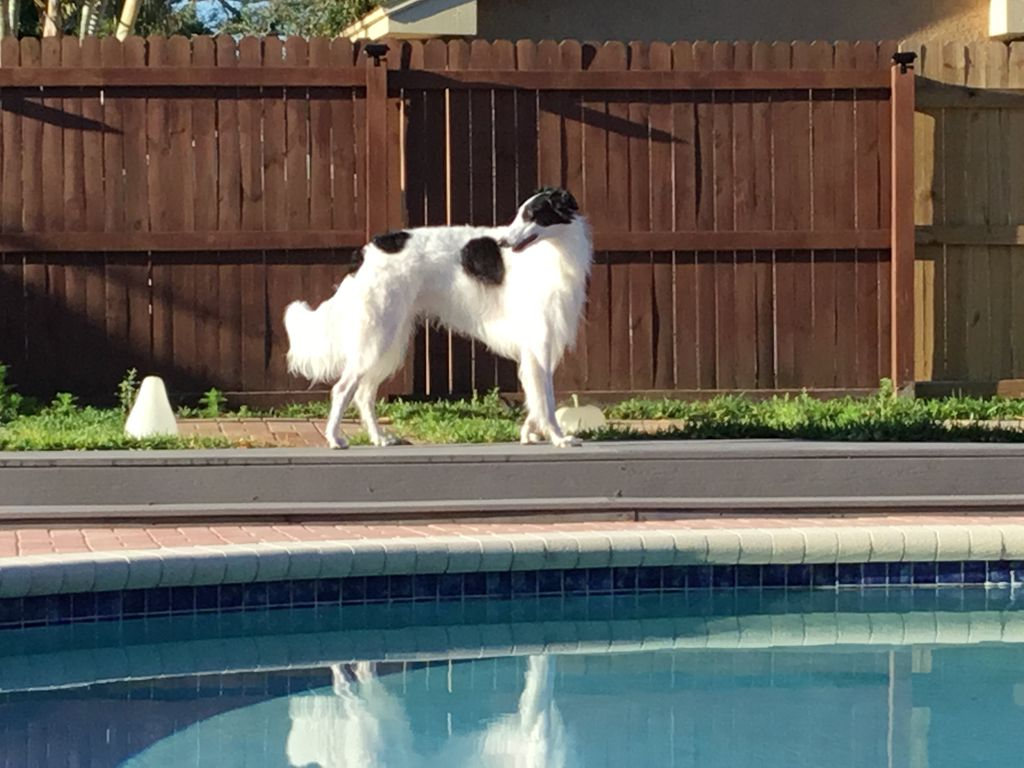borzoi: (275, 167, 642, 452)
